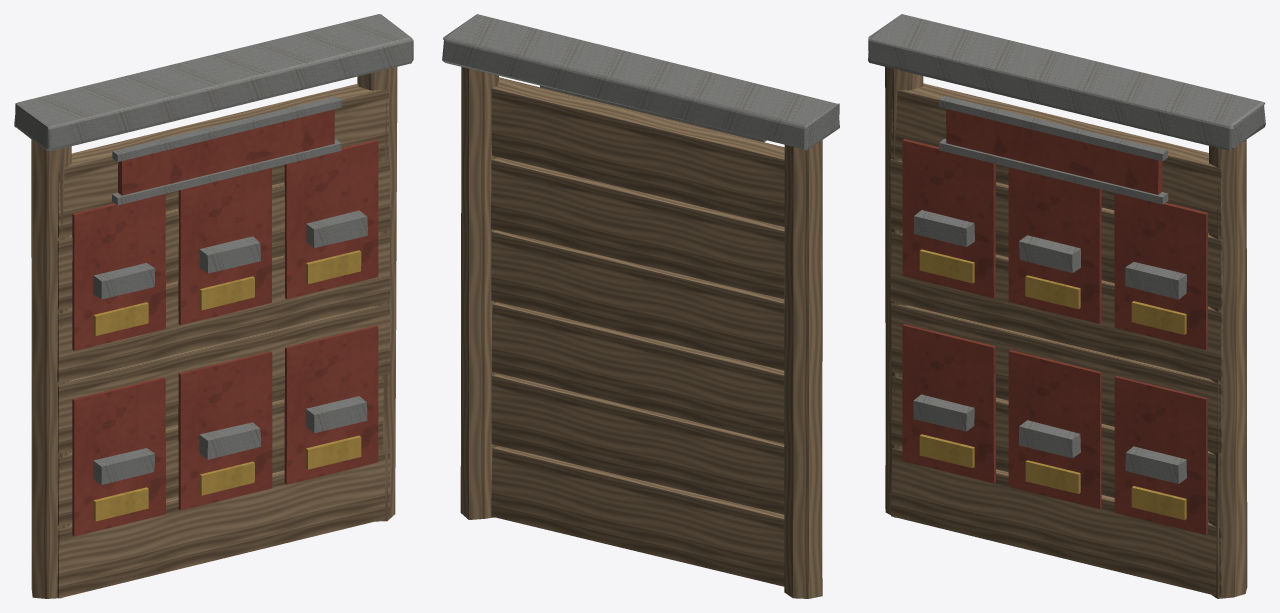
The model's file is needle_display_wall.glb.
3 renders of one model, left to right at view 1: azimuth 30°, elevation 25°; view 2: azimuth 150°, elevation 25°; view 3: azimuth 330°, elevation 25°, orthographic.
Visible parts, largest first — view 1: NeedleDisplayWall; view 2: NeedleDisplayWall; view 3: NeedleDisplayWall.
Part boxes in pixels (bbox=[...]): NeedleDisplayWall: bbox=[14, 14, 413, 598]; NeedleDisplayWall: bbox=[442, 14, 839, 598]; NeedleDisplayWall: bbox=[868, 14, 1265, 598].
Size of the model in its own units: 1.74 by 2.19 by 0.3156.
4 materials, 4 textured.
